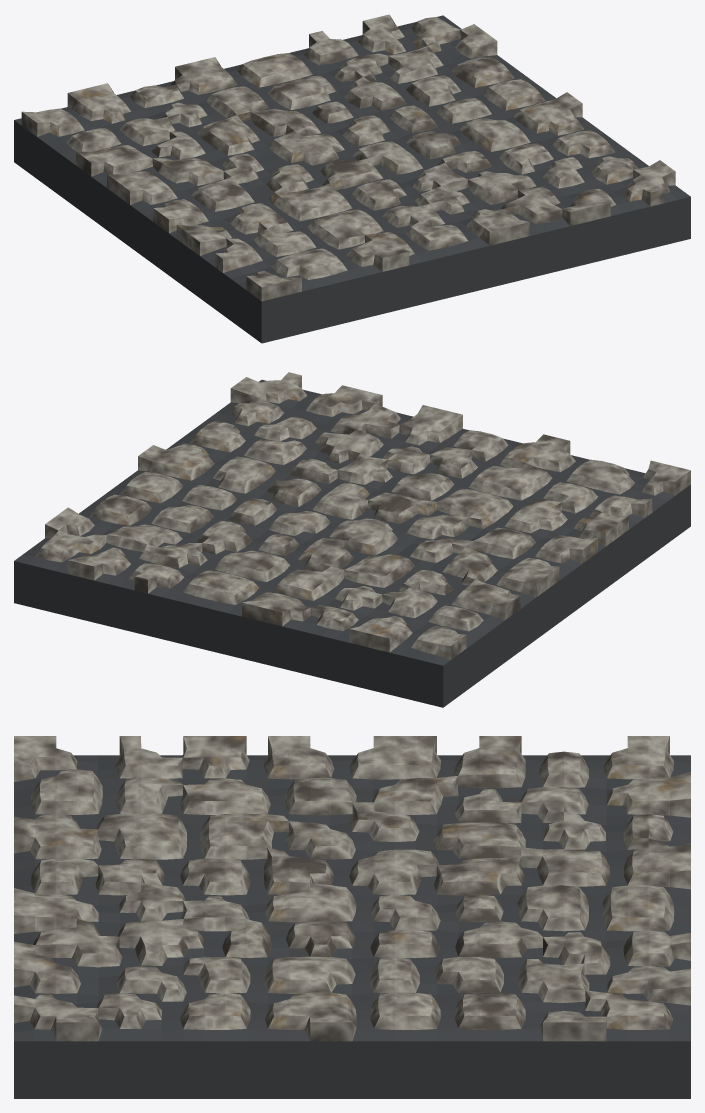
The model's file is floor_out_cobble.glb.
3 renders of one model, top to bottom at view 1: azimuth 30°, elevation 25°; view 2: azimuth 150°, elevation 25°; view 3: azimuth 270°, elevation 25°, orthographic. The views are drawn at different scales.
Visible parts, largest first — view 1: town_floor_out_cobble; view 2: town_floor_out_cobble; view 3: town_floor_out_cobble.
Boxes of the visible parts, left/top/right/bottom form: town_floor_out_cobble: left=14, top=14, right=690, bottom=343; town_floor_out_cobble: left=14, top=372, right=690, bottom=707; town_floor_out_cobble: left=14, top=736, right=690, bottom=1098.
Bounding box in the file's own units: 1 × 0.125 × 1.
2 materials, 1 textured.
